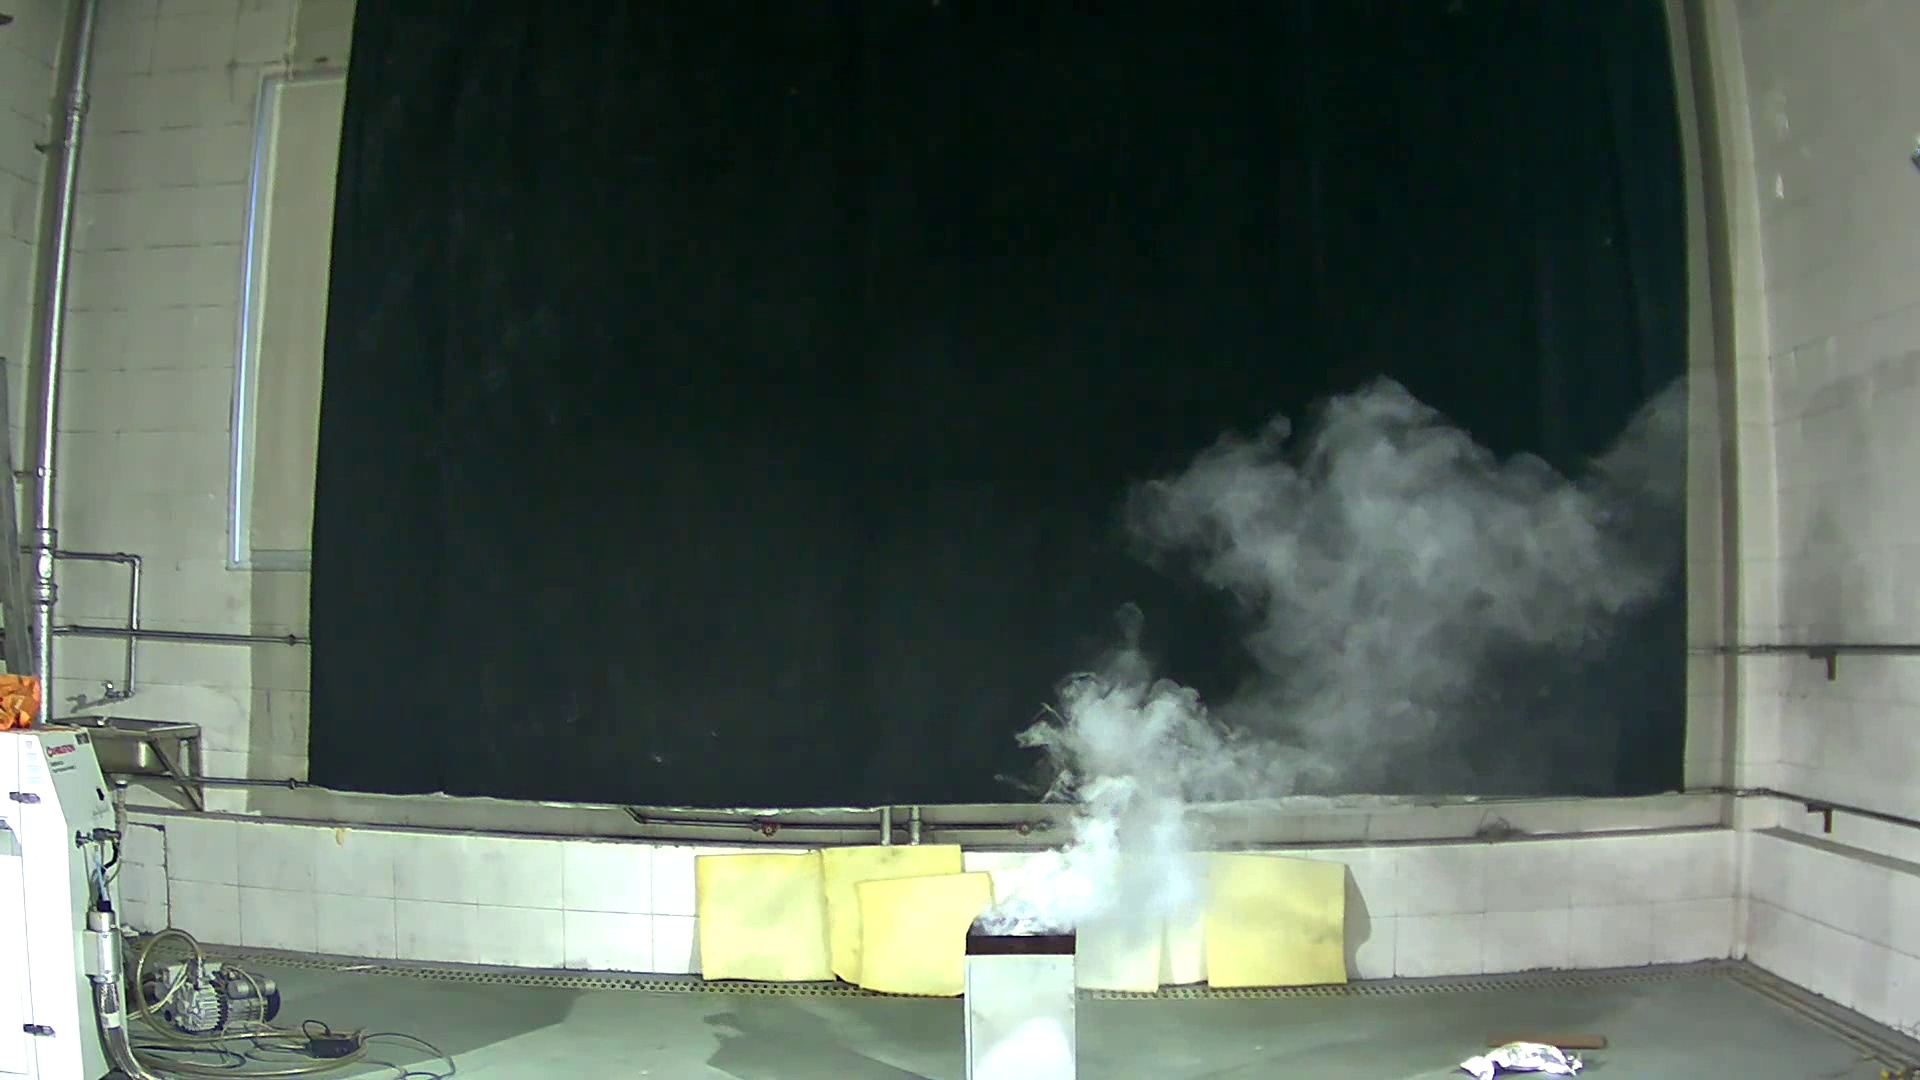smoke: (1133, 332, 1679, 767), (1006, 661, 1263, 934)
